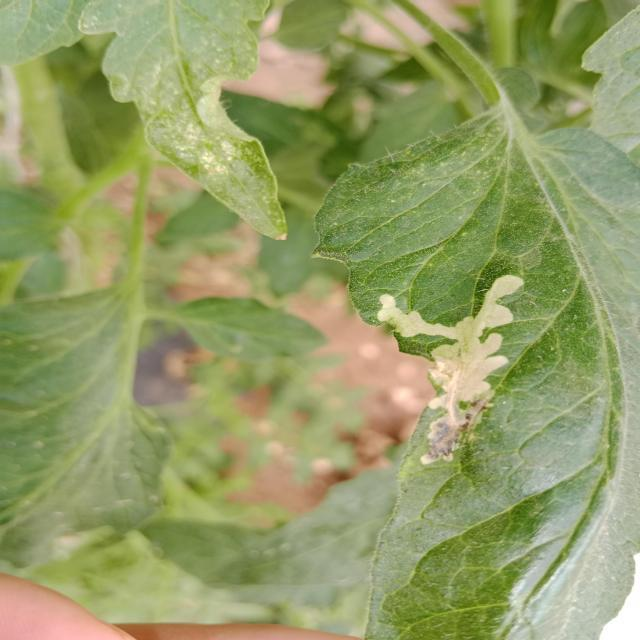Tuta absoluta: (374, 273, 549, 468)
